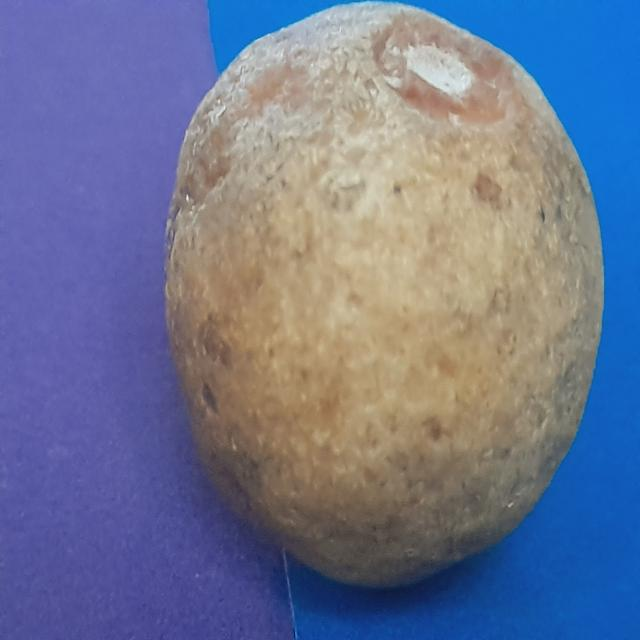thrips: (156, 22, 606, 600)
